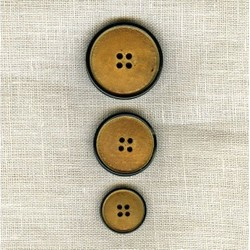Bouton: (85, 19, 164, 100), (92, 110, 157, 176), (99, 186, 147, 234)
